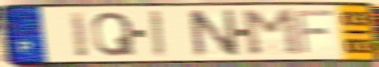F: (293, 8, 337, 57)
I: (68, 10, 91, 60), (147, 9, 168, 60)
M: (239, 7, 306, 58)
N: (185, 7, 242, 60)
Q: (91, 10, 139, 58)
